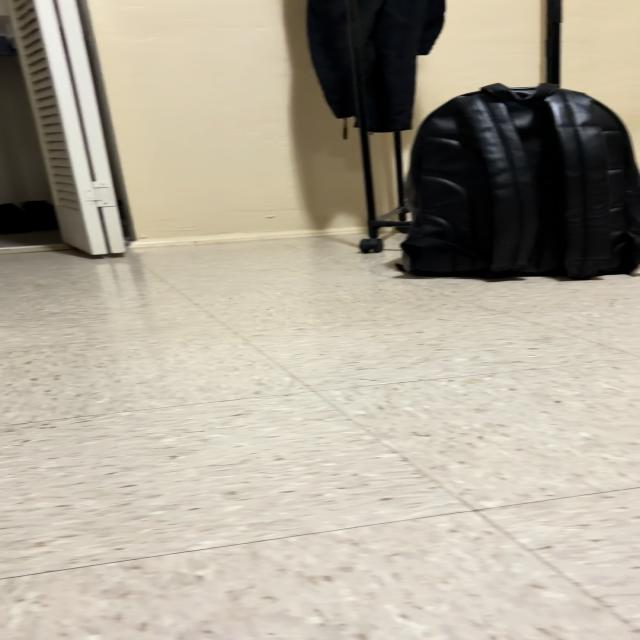backpack: (402, 84, 640, 278)
